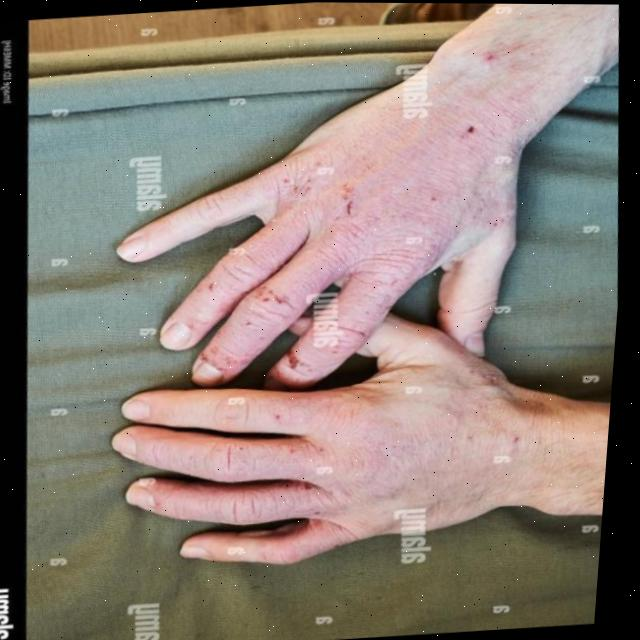Eczema: (188, 344, 512, 525), (182, 116, 488, 301)
